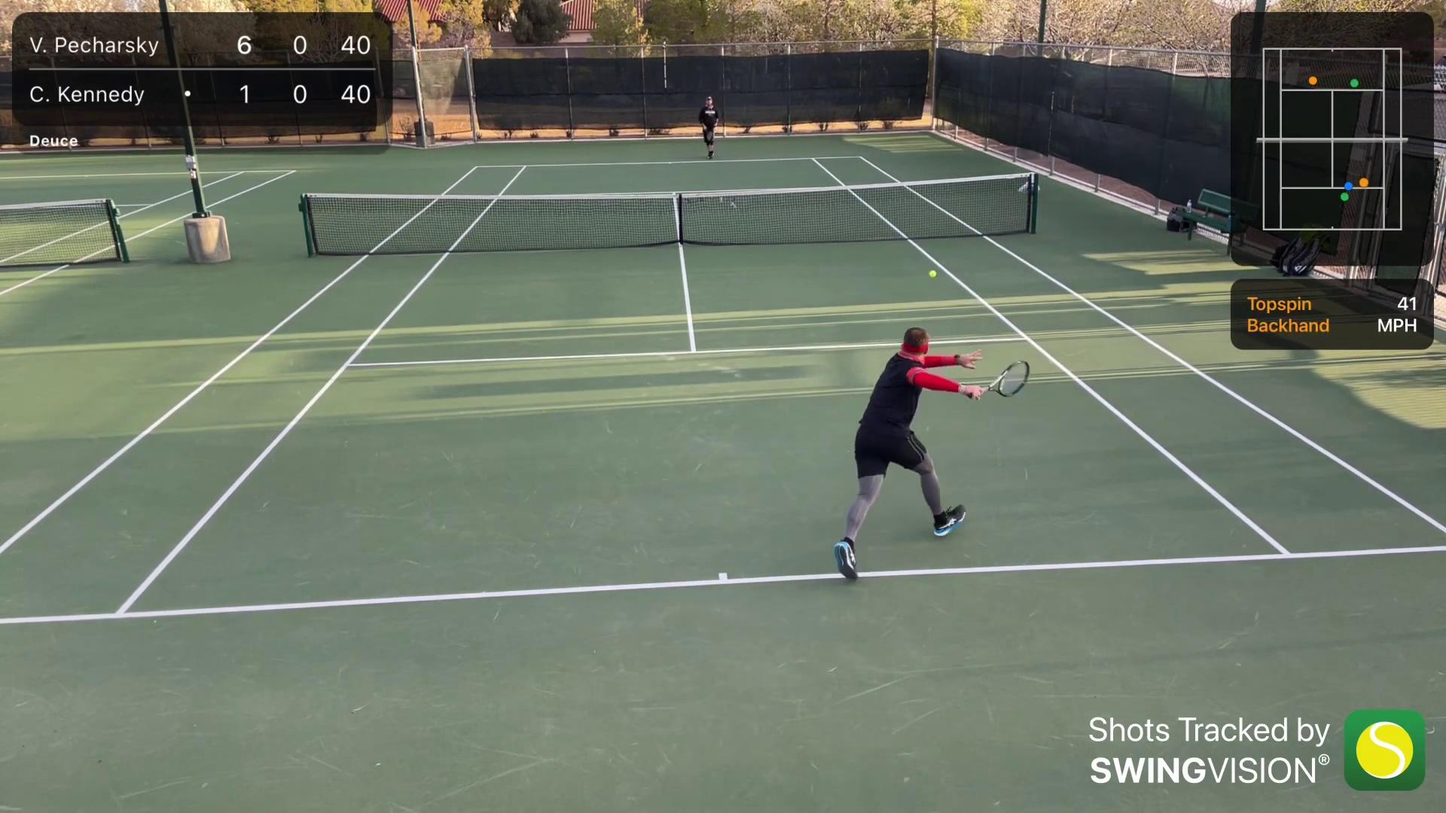ball: (928, 269, 938, 278)
